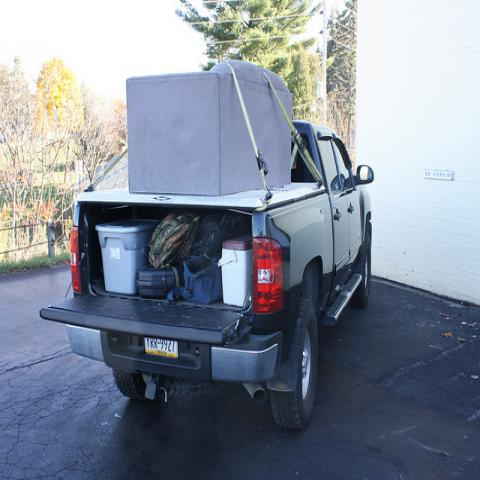truck: (40, 56, 374, 430)
